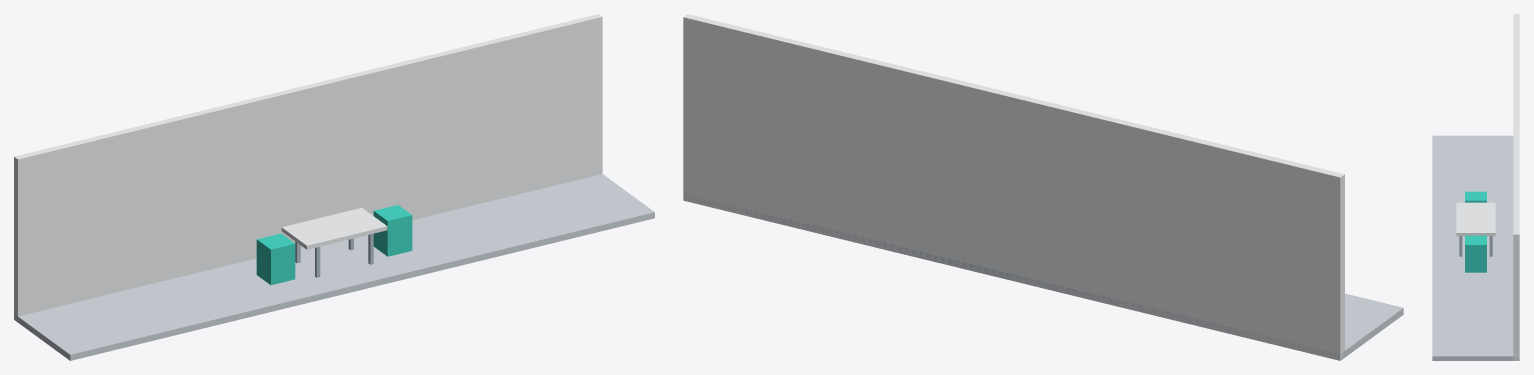
3 views of the same model, side by side, from view 1: azimuth 30°, elevation 25°; view 2: azimuth 150°, elevation 25°; view 3: azimuth 270°, elevation 25° (orthographic). The views are drawn at different scales.
Visible parts, largest first — view 1: Exhibition Booth Concept; view 2: Exhibition Booth Concept; view 3: Exhibition Booth Concept.
Boxes of the visible parts, <box> form: Exhibition Booth Concept: <box>14,14,654,360</box>; Exhibition Booth Concept: <box>683,14,1403,360</box>; Exhibition Booth Concept: <box>1432,14,1519,360</box>.
Bounding box in the file's own units: 12 × 3.2 × 2.
